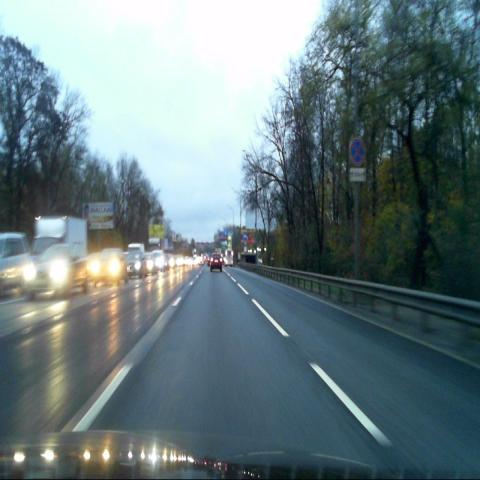3_27: (349, 139, 366, 165)
